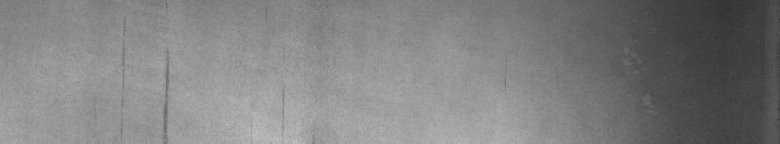ka: (122, 52, 172, 136)
